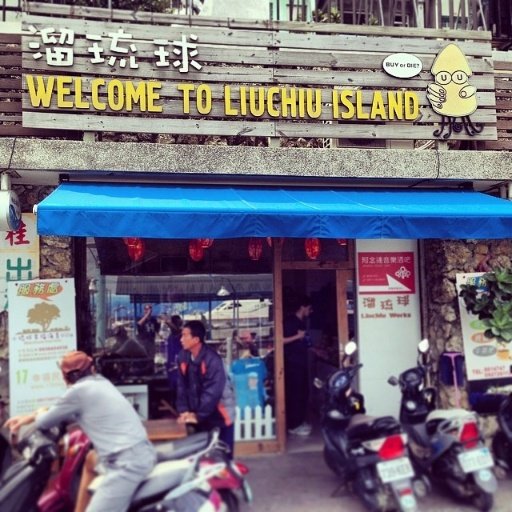hand: (0, 415, 32, 433), (176, 412, 195, 425), (34, 403, 49, 415), (179, 409, 197, 419), (297, 328, 307, 339)
